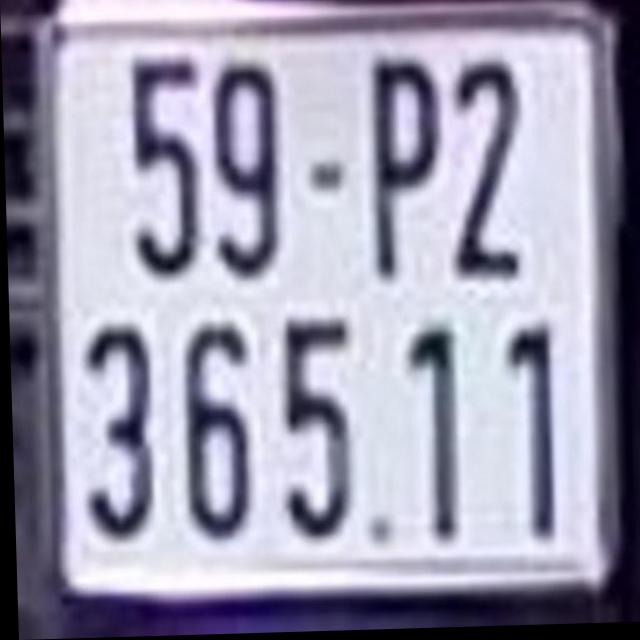1: (507, 321, 557, 538), (412, 330, 459, 542)
2: (452, 62, 530, 278)
3: (81, 325, 160, 537)
5: (279, 323, 352, 533), (131, 56, 199, 274)
6: (179, 323, 245, 539)
9: (210, 64, 281, 278)
P: (367, 63, 444, 281)
